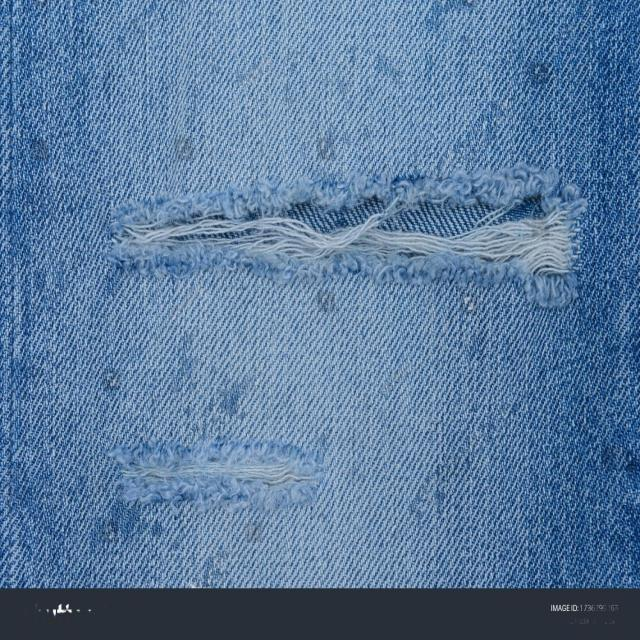Hole: (108, 163, 588, 307), (108, 440, 325, 512)
